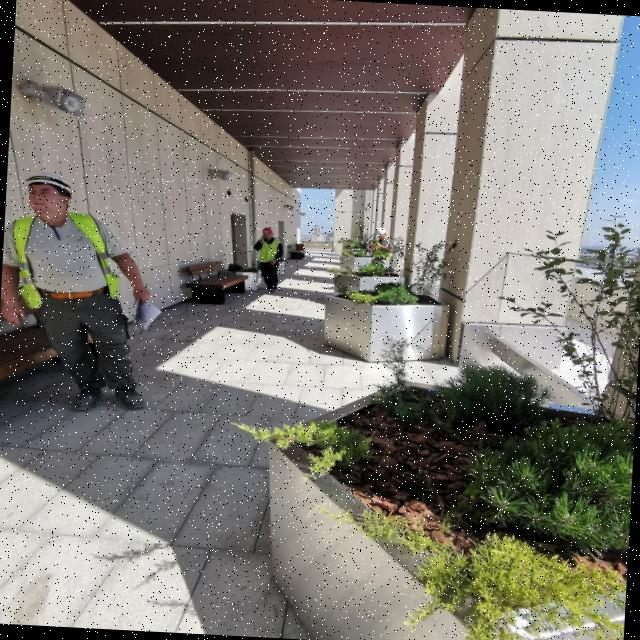Helmet: (23, 171, 77, 221), (373, 228, 389, 242), (262, 228, 276, 241)
